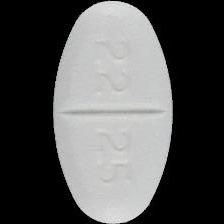68084-606: (0, 0, 224, 224)
